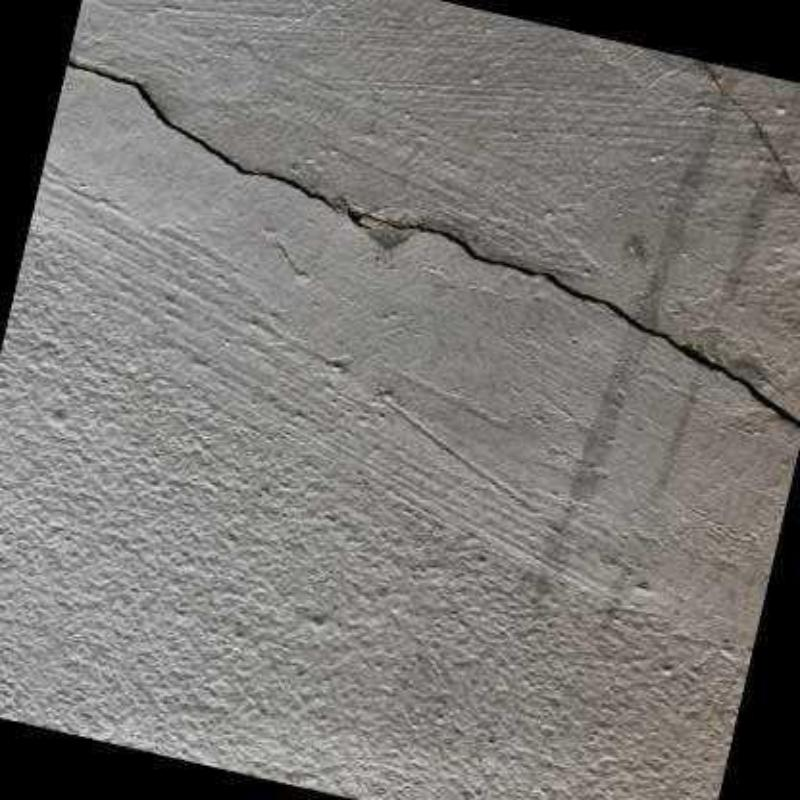pothole: (67, 57, 798, 429)
